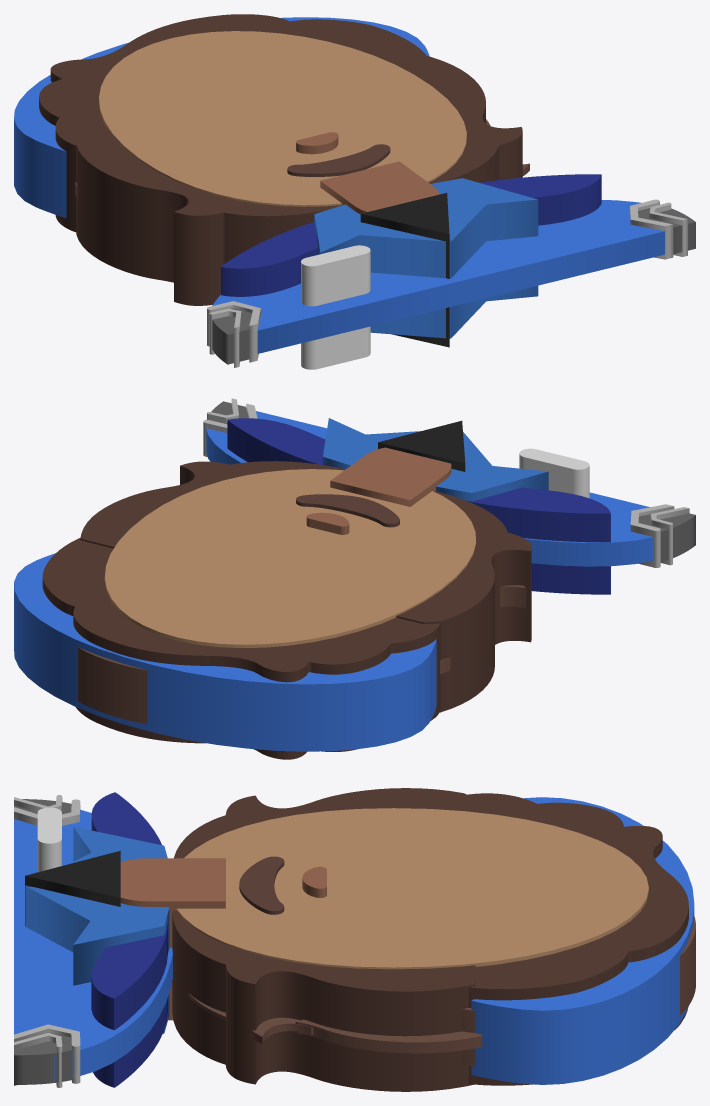
The model's file is emoji_u1f46e_1f3fd.glb.
3 renders of one model, top to bottom at view 1: azimuth 30°, elevation 25°; view 2: azimuth 150°, elevation 25°; view 3: azimuth 270°, elevation 25°, orthographic. The views are drawn at different scales.
Visible parts, largest first — view 1: emoji_u1f46e_1f3fd; view 2: emoji_u1f46e_1f3fd; view 3: emoji_u1f46e_1f3fd.
Boxes of the visible parts, x1=… form: emoji_u1f46e_1f3fd: x1=14, y1=14, x2=695, y2=369; emoji_u1f46e_1f3fd: x1=14, y1=398, x2=695, y2=759; emoji_u1f46e_1f3fd: x1=14, y1=788, x2=695, y2=1091.
Bounding box in the file's own units: 0.0294 × 0.0068 × 0.0333.
